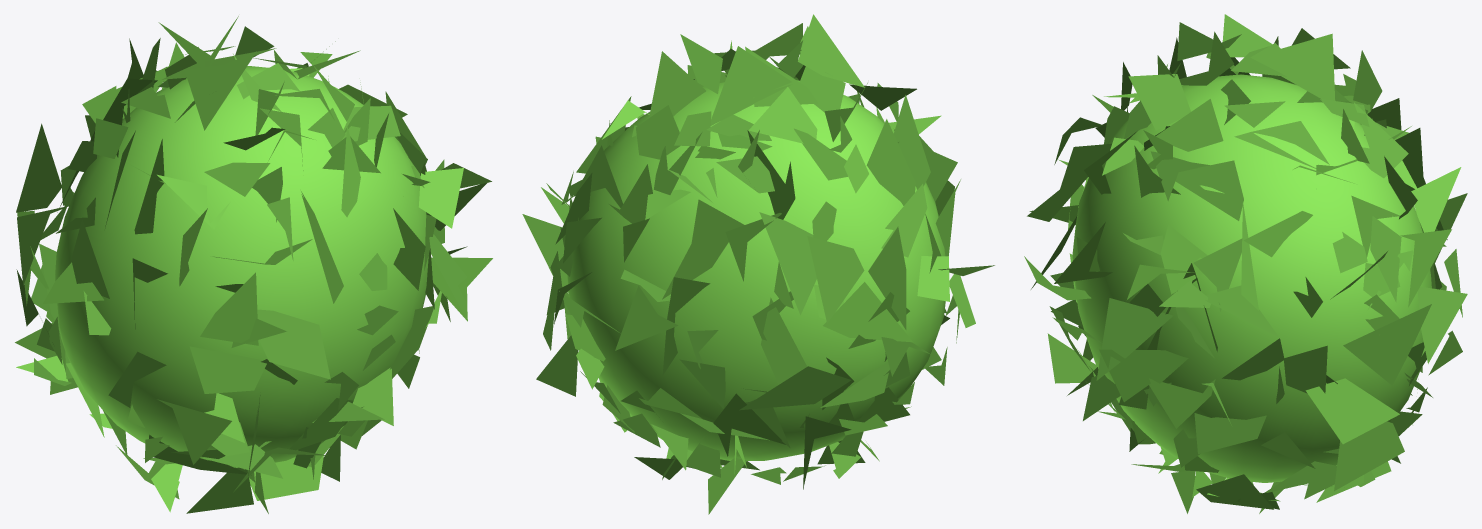
The model's file is bush.fbx.
The picture shows the model from 3 angles, left to right: view 1: azimuth 30°, elevation 25°; view 2: azimuth 150°, elevation 25°; view 3: azimuth 270°, elevation 25°; orthographic projection. The views are drawn at different scales.
Parts seen in each view (by area): view 1: Cube.001, Cube; view 2: Cube.001, Cube; view 3: Cube.001, Cube.
Boxes of the visible parts, <box> form: Cube.001: <box>15,16,492,513</box>; Cube: <box>55,66,430,467</box>; Cube.001: <box>522,14,994,514</box>; Cube: <box>567,80,945,460</box>; Cube.001: <box>1024,14,1467,513</box>; Cube: <box>1072,74,1431,482</box>.
Bounding box in the file's own units: 254 × 269 × 236.
